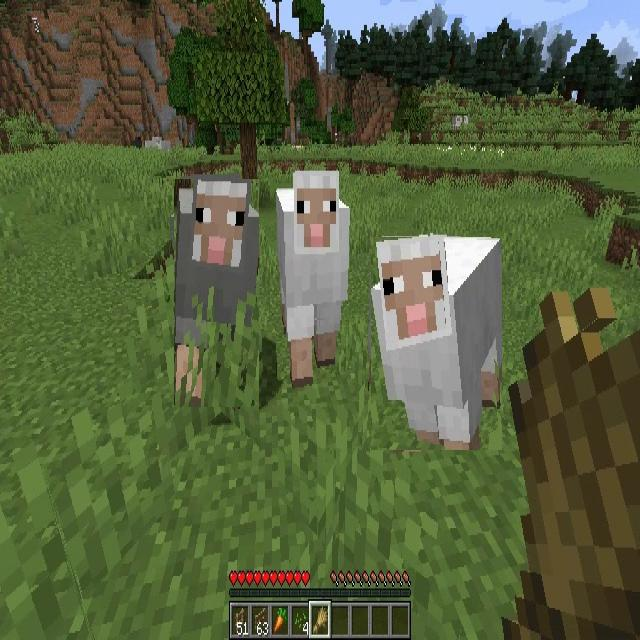sheep: (371, 237, 502, 450), (174, 179, 259, 407), (276, 174, 350, 378), (144, 137, 157, 149), (157, 138, 170, 150), (453, 115, 463, 128), (131, 137, 143, 147), (463, 114, 470, 124)
